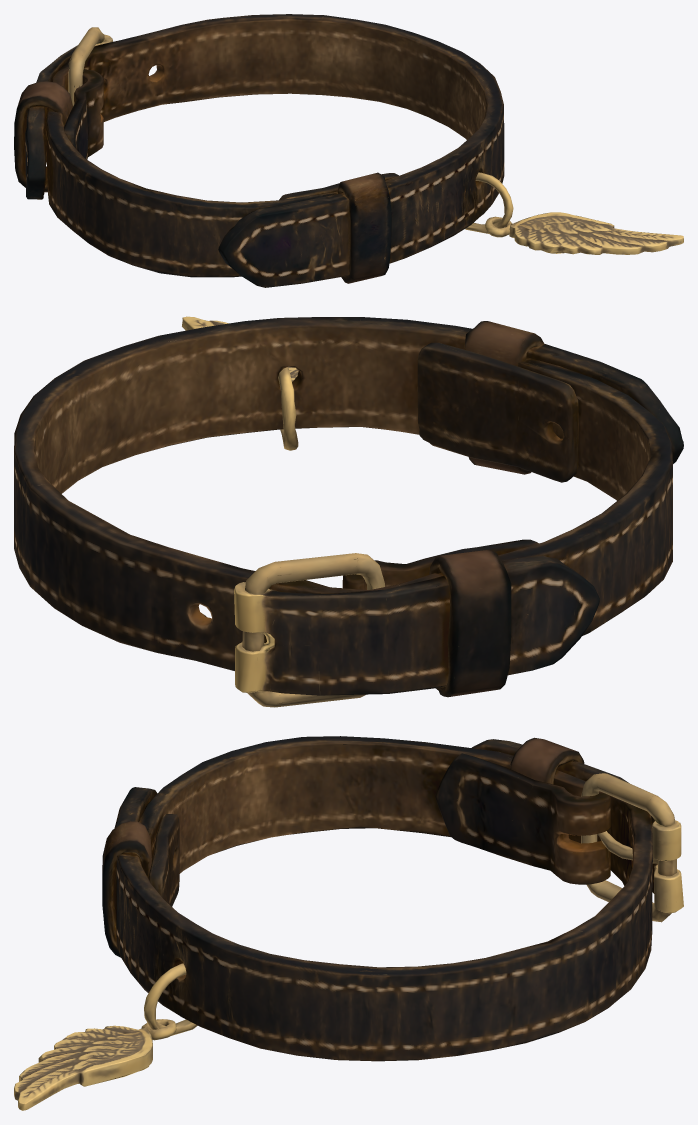
The model's file is Wear_Anklet.fbx.
The picture shows the model from 3 angles, top to bottom: view 1: azimuth 30°, elevation 25°; view 2: azimuth 150°, elevation 25°; view 3: azimuth 270°, elevation 25°; orthographic projection. The views are drawn at different scales.
Parts seen in each view (by area): view 1: Wear_Anklet; view 2: Wear_Anklet; view 3: Wear_Anklet.
Part boxes in pixels (<box>): Wear_Anklet: <box>14,14,683,287</box>; Wear_Anklet: <box>14,316,683,707</box>; Wear_Anklet: <box>14,736,683,1110</box>.
Bounding box in the file's own units: 0.1089 × 0.0231 × 0.11.
